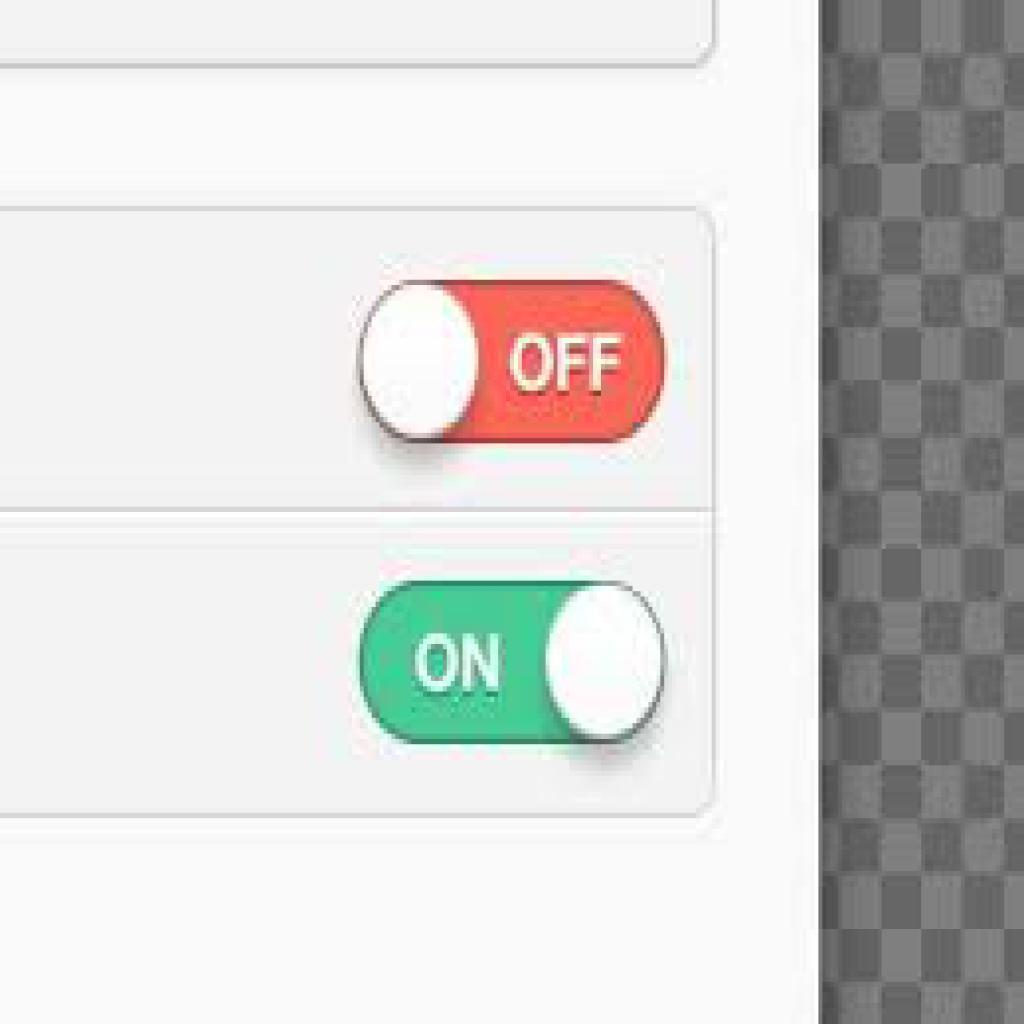switch: (359, 582, 668, 747), (360, 282, 669, 446)
